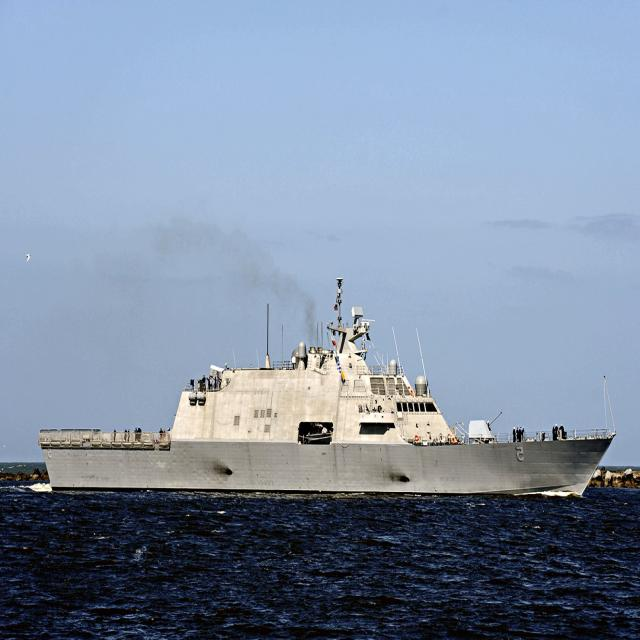navalvessels: (33, 215, 624, 514)
